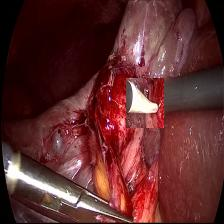Grasper: (2, 140, 134, 224)
Hook: (126, 78, 164, 128)
